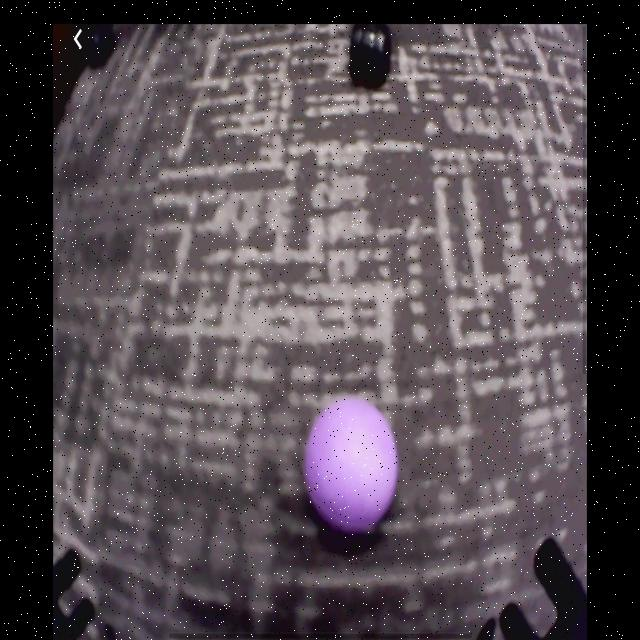ball: (305, 396, 401, 539)
